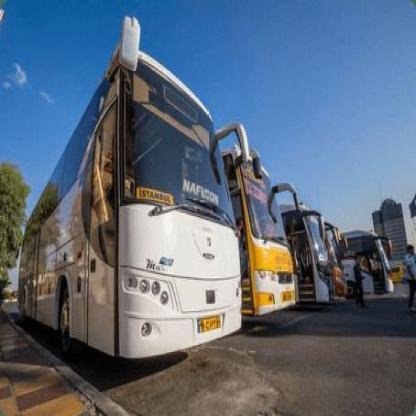Bus: (17, 30, 253, 370), (226, 145, 302, 322), (292, 192, 336, 315), (345, 213, 403, 302), (326, 222, 347, 296)
